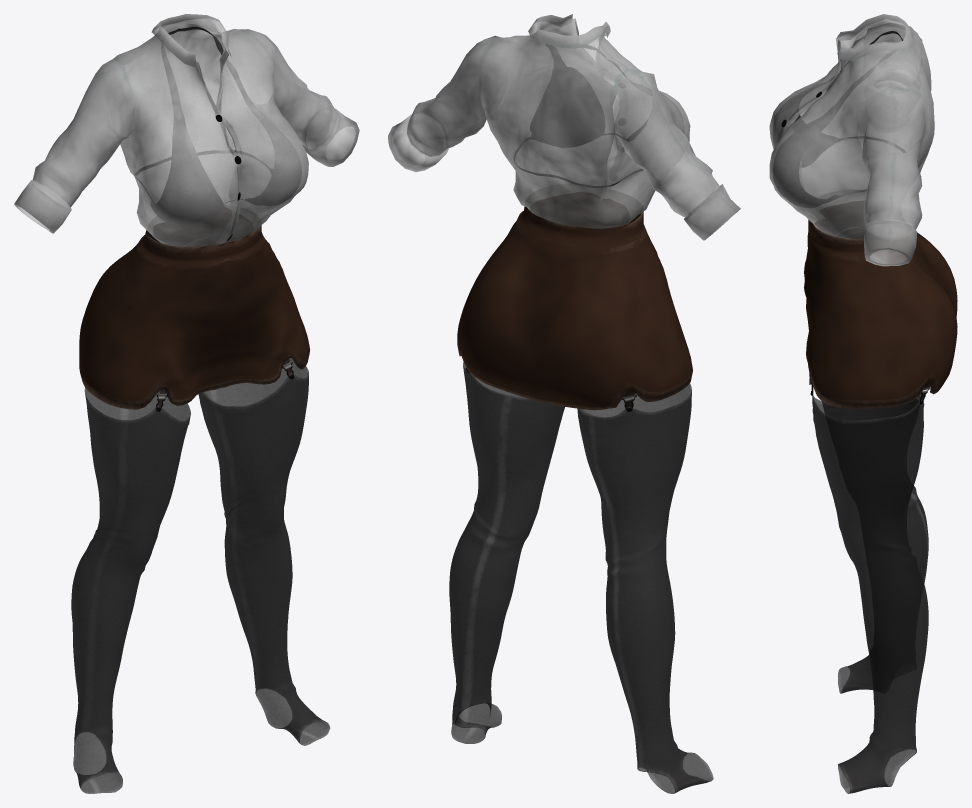
The model's file is teacher_set.glb.
3 renders of one model, left to right at view 1: azimuth 30°, elevation 25°; view 2: azimuth 150°, elevation 25°; view 3: azimuth 270°, elevation 25°, orthographic. The views are drawn at different scales.
Visible parts, largest first — view 1: office set4 t1_0, office set2 t1_2, office set3 t1_1, office set t1_3; view 2: office set4 t1_0, office set2 t1_2, office set3 t1_1, office set t1_3; view 3: office set4 t1_0, office set2 t1_2, office set3 t1_1, office set t1_3.
Boxes of the visible parts, bbox=[...] form: office set4 t1_0: bbox=[71, 220, 330, 793]; office set2 t1_2: bbox=[14, 14, 359, 246]; office set3 t1_1: bbox=[79, 207, 310, 409]; office set t1_3: bbox=[135, 26, 301, 225]; office set4 t1_0: bbox=[449, 214, 713, 793]; office set2 t1_2: bbox=[388, 14, 740, 240]; office set3 t1_1: bbox=[457, 192, 692, 410]; office set t1_3: bbox=[514, 44, 684, 187]; office set4 t1_0: bbox=[810, 208, 930, 793]; office set2 t1_2: bbox=[769, 14, 934, 266]; office set3 t1_1: bbox=[804, 201, 957, 408]; office set t1_3: bbox=[773, 31, 905, 207].
Size of the model in its own units: 0.6377 by 1.32 by 0.315.
1 material, 1 textured.
